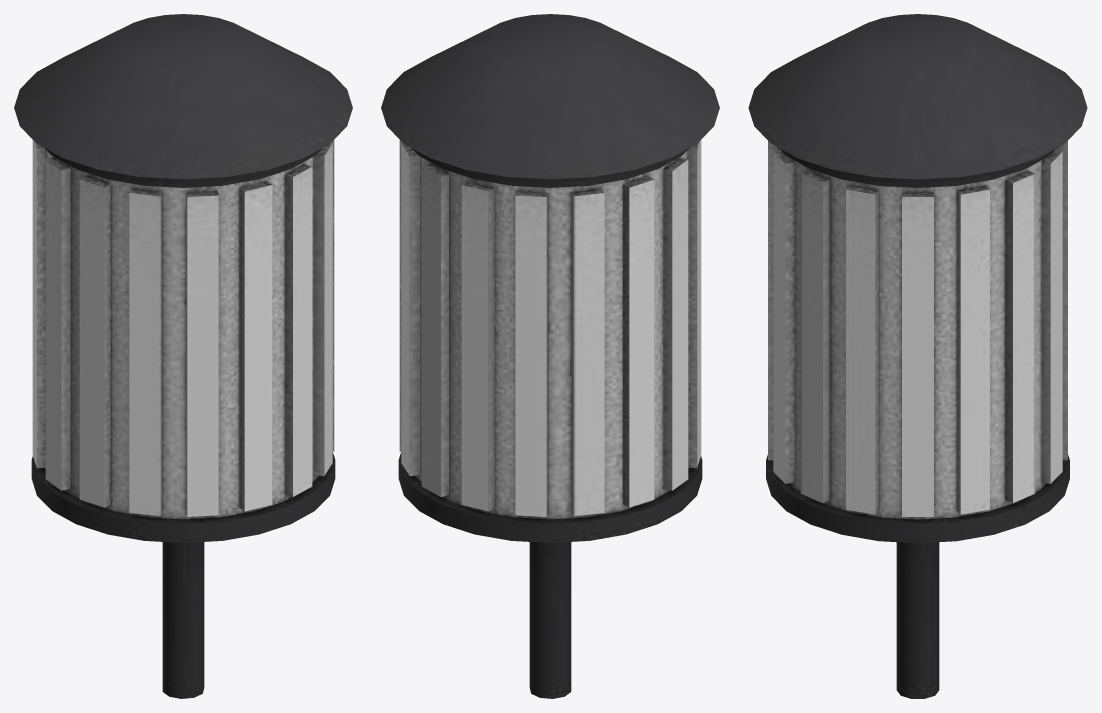
Rendered from bin.glb.
3 renders of one model, left to right at view 1: azimuth 30°, elevation 25°; view 2: azimuth 150°, elevation 25°; view 3: azimuth 270°, elevation 25°, orthographic.
Visible parts, largest first — view 1: body; view 2: body; view 3: body.
Part boxes in pixels (x1=…): body: x1=14, y1=14, x2=352, y2=698; body: x1=381, y1=14, x2=719, y2=698; body: x1=748, y1=14, x2=1087, y2=698.
Bounding box in the file's own units: 0.48 × 1.01 × 0.48.
2 materials, 2 textured.
